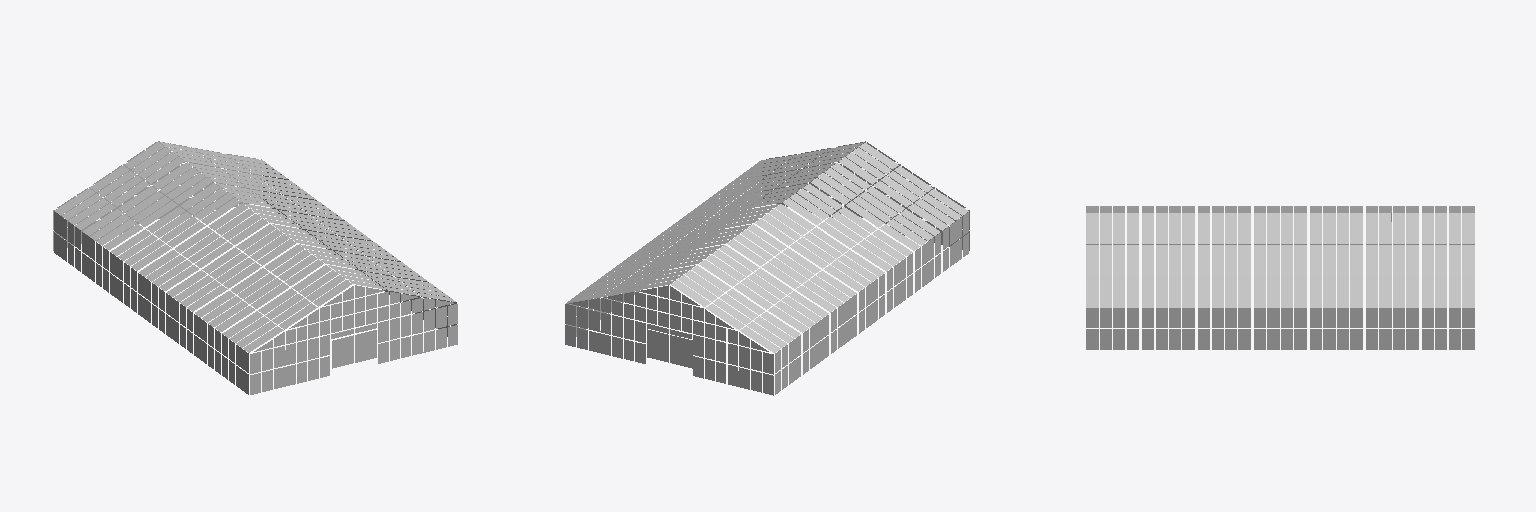
File: glasshouse big glass.obj
3 views of the same model, side by side, from view 1: azimuth 30°, elevation 25°; view 2: azimuth 150°, elevation 25°; view 3: azimuth 270°, elevation 25° (orthographic).
Size of the model in its own units: 11.93 by 4.68 by 19.53.